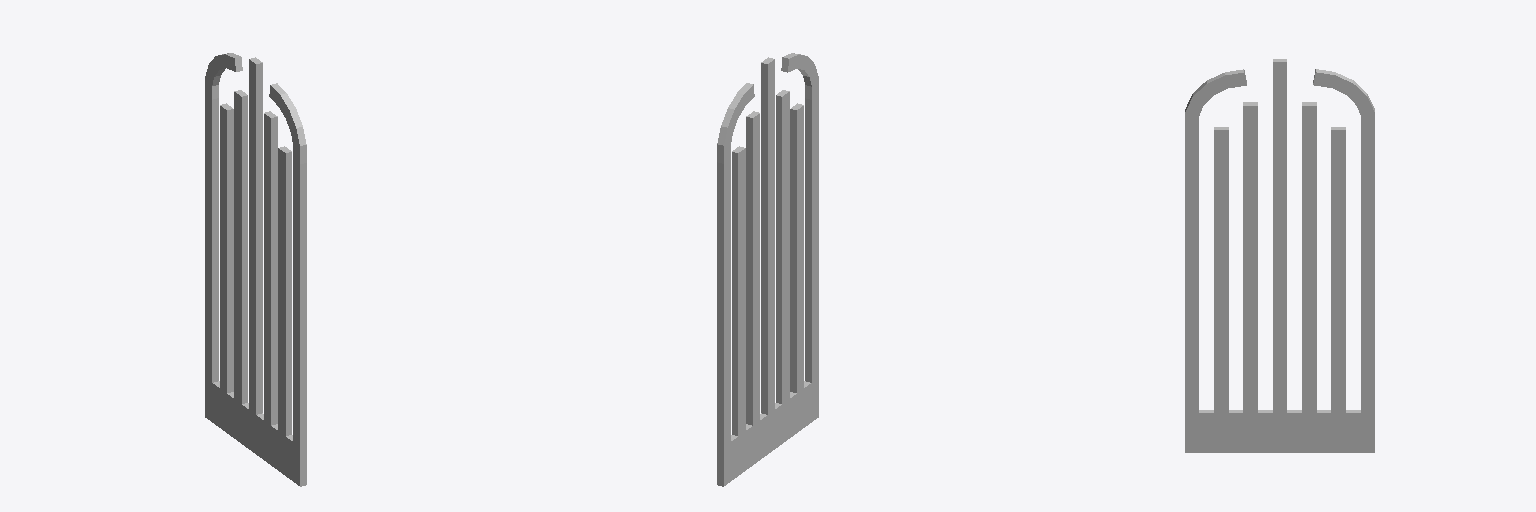
The model's file is gate.obj.
3 views of the same model, side by side, from view 1: azimuth 30°, elevation 25°; view 2: azimuth 150°, elevation 25°; view 3: azimuth 270°, elevation 25° (orthographic).
Parts seen in each view (by area): view 1: Cube_Cube.001; view 2: Cube_Cube.001; view 3: Cube_Cube.001.
Part boxes in pixels (x1,y1,x2,y2): Cube_Cube.001: (205, 53, 306, 486); Cube_Cube.001: (717, 53, 818, 486); Cube_Cube.001: (1185, 59, 1374, 452).
Bounding box in the file's own units: 0.0686 × 3.81 × 1.68.